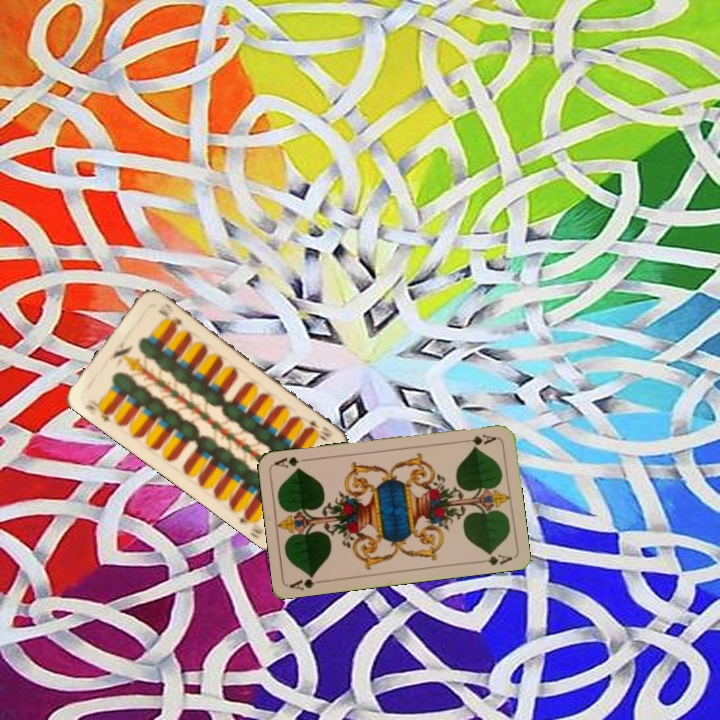E10: (81, 400, 115, 425), (306, 416, 335, 440)
GA: (287, 571, 327, 592), (459, 430, 499, 449)
